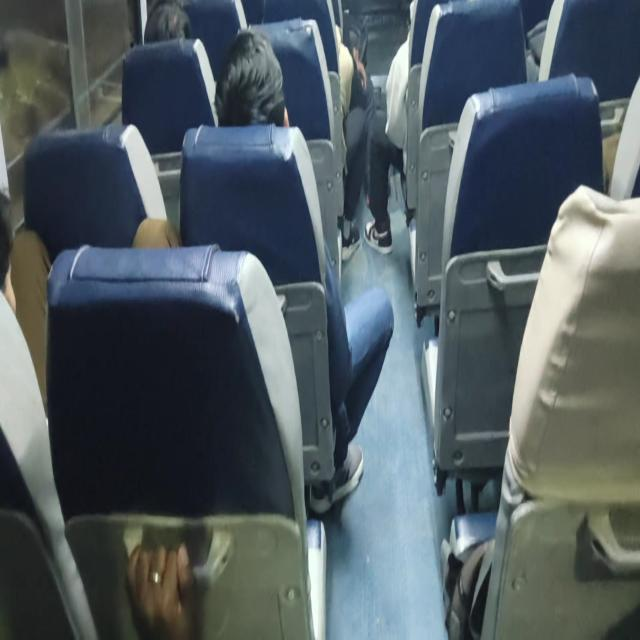person: (220, 34, 295, 140), (146, 0, 193, 44)
